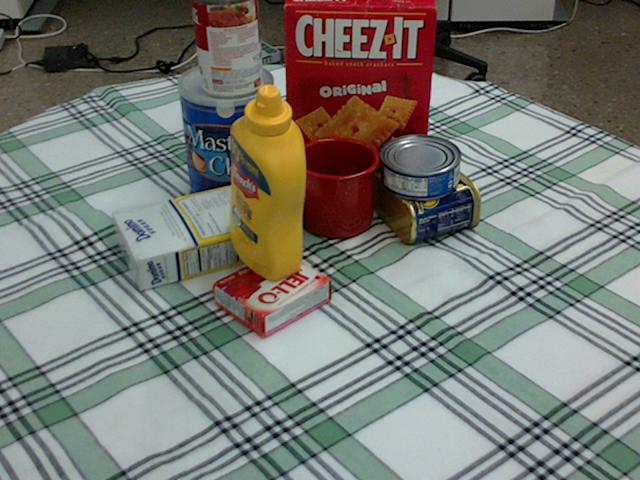cracker_box: (284, 0, 438, 182)
gelatin_box: (214, 249, 331, 337)
master_chef_can: (176, 61, 276, 214)
mug: (294, 134, 381, 237)
mustard_bottle: (229, 83, 305, 280)
potted_meat_can: (368, 148, 479, 239)
sugar_box: (109, 175, 300, 290)
tomato_soup_can: (192, 0, 262, 97)
tuna_fish_can: (379, 135, 460, 198)
